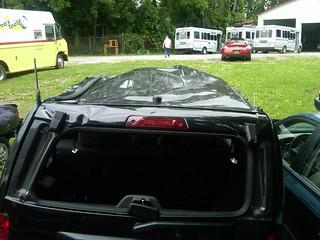Rear-windscreen-Damage: (44, 135, 270, 219)
roof-dent: (57, 60, 262, 130)
